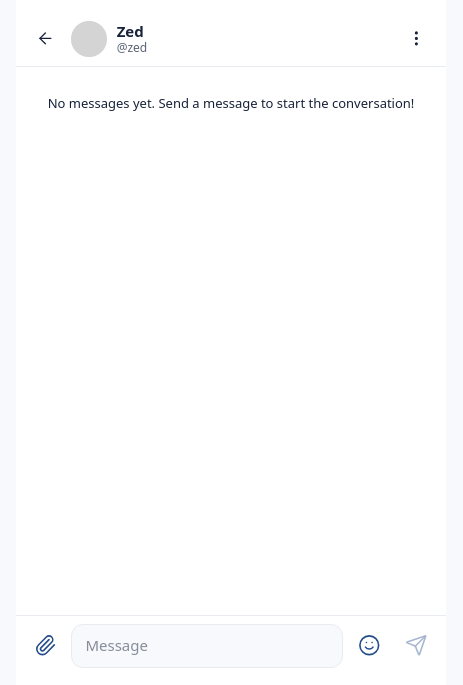
Test: Chat screen flow › the menu offers Block and Report
The width and height of the screenshot is (463, 685).
Click the button named "Chat menu" at (416, 38), box 394,16 -> 438,60
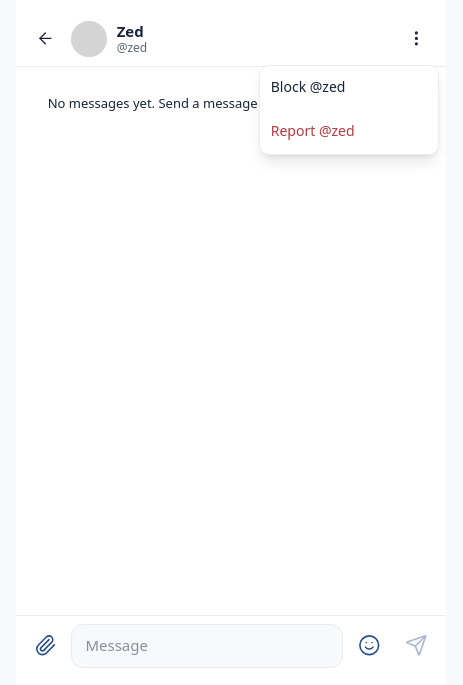
expect the menu item "Block @zed" is shown: met, box 260,66 -> 438,110
expect the menu item "Report @zed" is shown: met, box 260,110 -> 438,154
